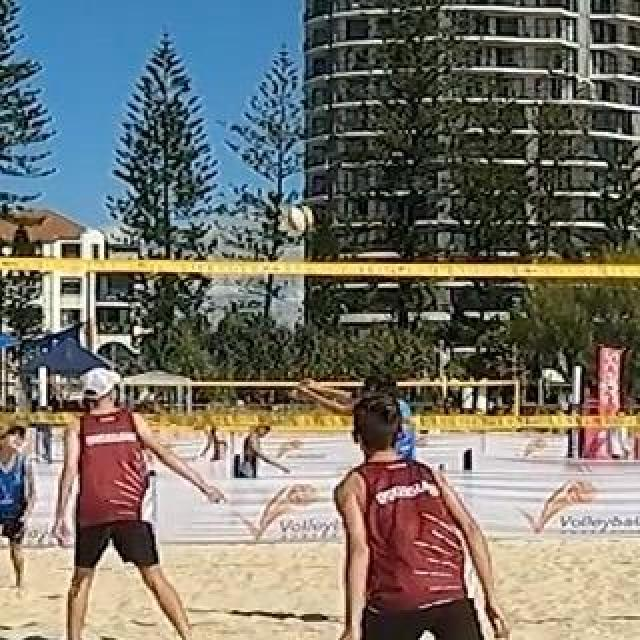volleyball: (286, 202, 312, 232)
